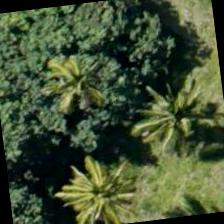Kelapa_Sawit: (17, 22, 117, 122), (124, 46, 223, 147), (50, 132, 151, 223)
